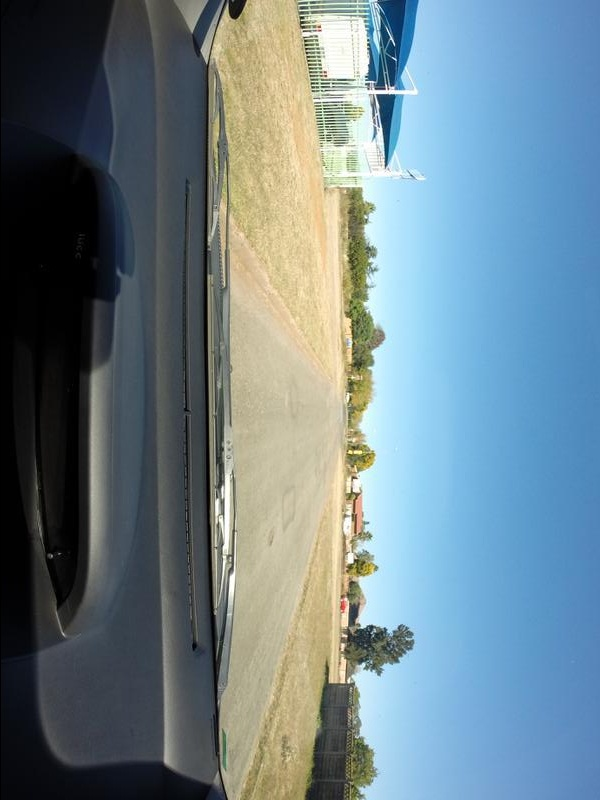pothole: (257, 523, 283, 564)
